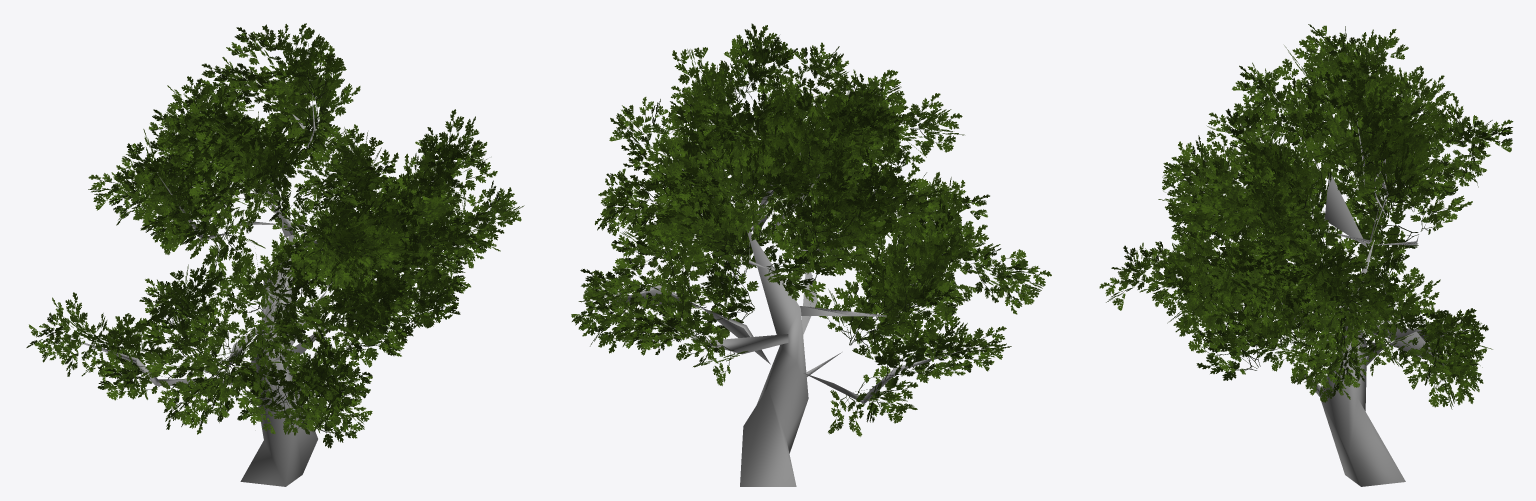
Rendered from oak1 lod2.FBX.
3 renders of one model, left to right at view 1: azimuth 30°, elevation 25°; view 2: azimuth 150°, elevation 25°; view 3: azimuth 270°, elevation 25°, orthographic. The views are drawn at different scales.
Visible parts, largest first — view 1: oak1_LOD2; view 2: oak1_LOD2; view 3: oak1_LOD2.
Boxes of the visible parts, x1,y1,x2,y2 form: oak1_LOD2: (26, 23, 524, 486); oak1_LOD2: (571, 23, 1051, 486); oak1_LOD2: (1099, 24, 1513, 486).
Bounding box in the file's own units: 102972 × 100814 × 87328.
